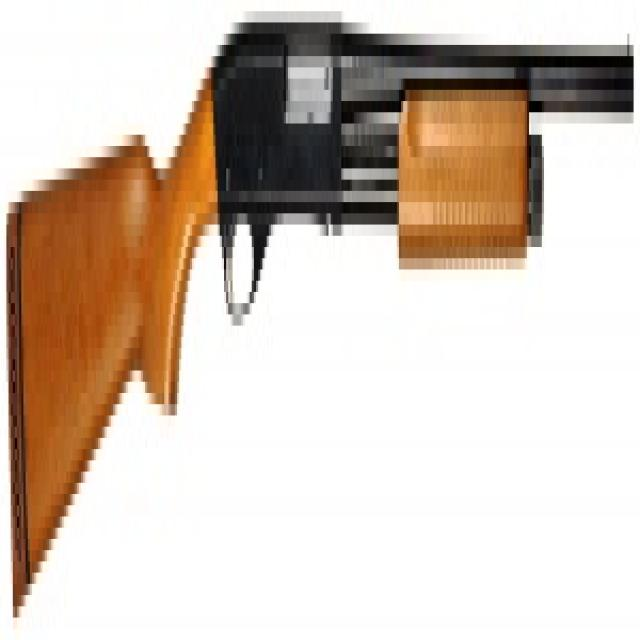rifle: (9, 1, 638, 607)
